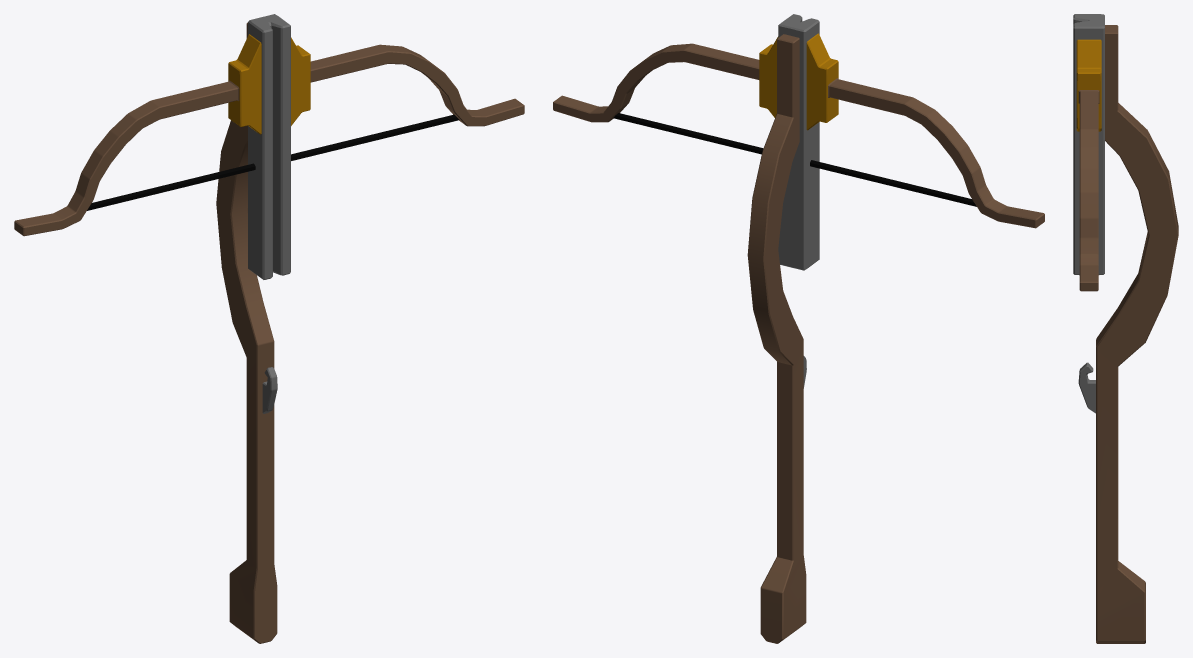
The model's file is CrossBow.fbx.
3 renders of one model, left to right at view 1: azimuth 30°, elevation 25°; view 2: azimuth 150°, elevation 25°; view 3: azimuth 270°, elevation 25°, orthographic. The views are drawn at different scales.
Visible parts, largest first — view 1: pCube14, pCube17, pCube16, pCube15, pCylinder9; view 2: pCube14, pCube16, pCube17, pCube15, pCylinder9; view 3: pCube14, pCube15, pCube17, pCube18.
Boxes of the visible parts, left/top/right/bottom form: pCube14: left=216, top=22, right=277, bottom=643; pCube17: left=248, top=14, right=290, bottom=279; pCube16: left=14, top=34, right=261, bottom=236; pCube15: left=291, top=37, right=524, bottom=126; pCylinder9: left=87, top=114, right=459, bottom=210; pCube14: left=747, top=34, right=806, bottom=643; pCube16: left=806, top=33, right=1044, bottom=228; pCube17: left=778, top=14, right=819, bottom=270; pCube15: left=553, top=36, right=778, bottom=122; pCylinder9: left=613, top=113, right=976, bottom=206; pCube14: left=1096, top=25, right=1178, bottom=643; pCube15: left=1076, top=39, right=1101, bottom=291; pCube17: left=1073, top=14, right=1104, bottom=275; pCube18: left=1078, top=362, right=1095, bottom=413.
Size of the model in its own units: 4.68 by 5.55 by 0.855.
